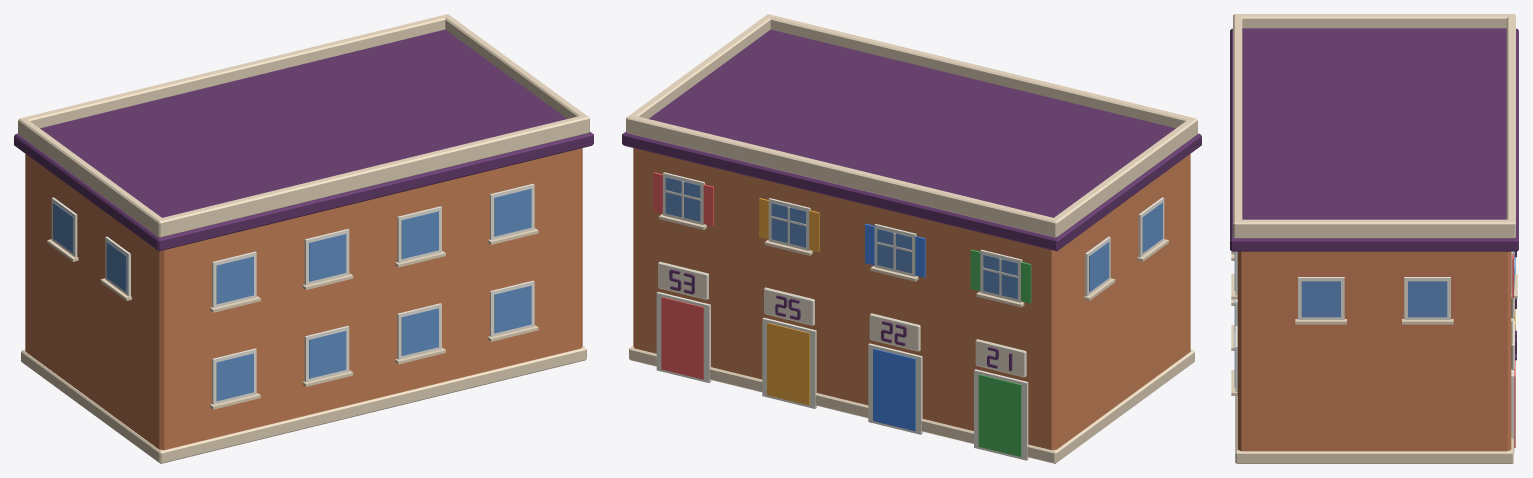
Rendered from bld_d4_a.glb.
3 renders of one model, left to right at view 1: azimuth 30°, elevation 25°; view 2: azimuth 150°, elevation 25°; view 3: azimuth 270°, elevation 25°, orthographic.
Visible parts, largest first — view 1: bld_d4_a; view 2: bld_d4_a; view 3: bld_d4_a.
Boxes of the visible parts, x1,y1,x2,y2 form: bld_d4_a: [14, 14, 593, 463]; bld_d4_a: [622, 14, 1201, 463]; bld_d4_a: [1230, 14, 1518, 463].
Size of the model in its own units: 16.5 by 8.9 by 9.5.
